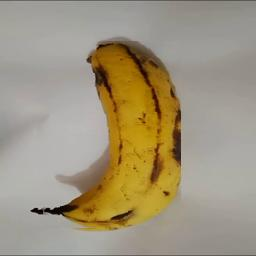Banana Semifresh: (30, 41, 181, 229)
